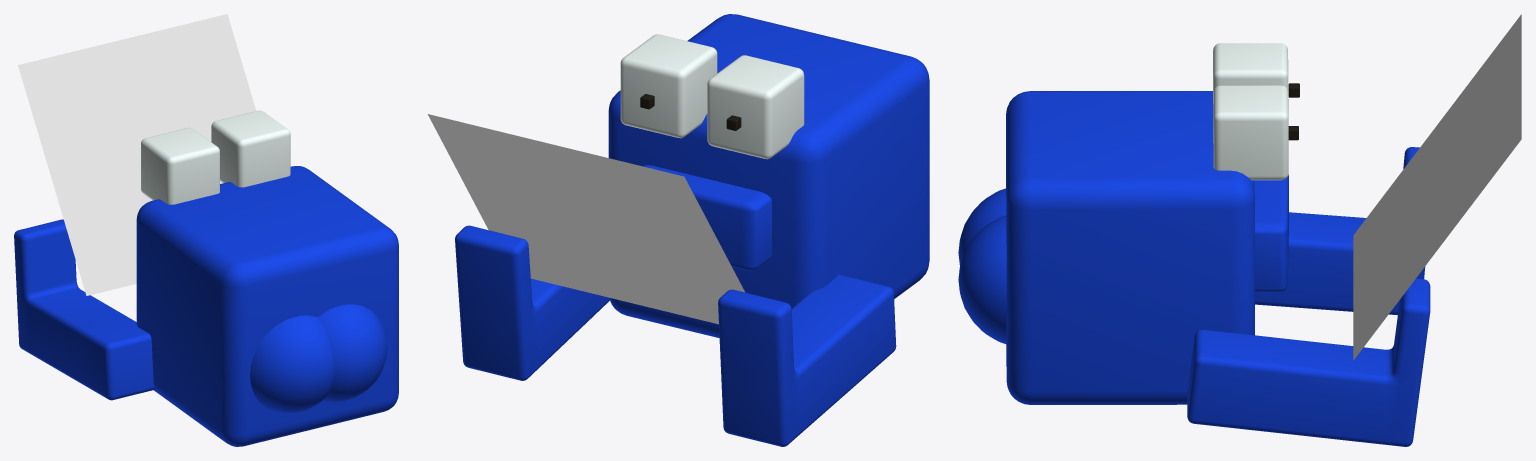
The model's file is frog_draw.glb.
3 views of the same model, side by side, from view 1: azimuth 30°, elevation 25°; view 2: azimuth 150°, elevation 25°; view 3: azimuth 270°, elevation 25° (orthographic). The views are drawn at different scales.
Parts seen in each view (by area): view 1: Cube.002, paper, rightleg.001, assleft.001, Eye.002, Eye.003, assright.001; view 2: Cube.002, paper, rightleg.001, leftleg.001, Eye.002, Eye.003, mouth.001; view 3: Cube.002, leftleg.001, paper, rightleg.001, Eye.003, assright.001, mouth.001, Eye.002, assleft.001.
Boxes of the visible parts, x1=… form: Cube.002: x1=136, y1=166, x2=398, y2=446; paper: x1=18, y1=14, x2=256, y2=295; rightleg.001: x1=14, y1=219, x2=154, y2=400; assleft.001: x1=250, y1=315, x2=333, y2=413; Eye.002: x1=141, y1=127, x2=219, y2=204; Eye.003: x1=211, y1=110, x2=290, y2=187; assright.001: x1=318, y1=304, x2=387, y2=402; Cube.002: x1=608, y1=14, x2=929, y2=337; paper: x1=427, y1=114, x2=745, y2=324; rightleg.001: x1=718, y1=274, x2=896, y2=446; leftleg.001: x1=455, y1=225, x2=609, y2=380; Eye.002: x1=707, y1=55, x2=804, y2=159; Eye.003: x1=620, y1=34, x2=717, y2=138; mouth.001: x1=642, y1=165, x2=771, y2=270; Cube.002: x1=1006, y1=91, x2=1254, y2=404; leftleg.001: x1=1187, y1=278, x2=1430, y2=446; paper: x1=1353, y1=14, x2=1521, y2=360; rightleg.001: x1=1255, y1=147, x2=1425, y2=315; Eye.003: x1=1213, y1=85, x2=1288, y2=180; assright.001: x1=958, y1=215, x2=1006, y2=343; mouth.001: x1=1254, y1=174, x2=1288, y2=291; Eye.002: x1=1213, y1=43, x2=1288, y2=103; assleft.001: x1=958, y1=188, x2=1006, y2=265.
Bounding box in the file's own units: 3.5 × 3.04 × 5.17.
